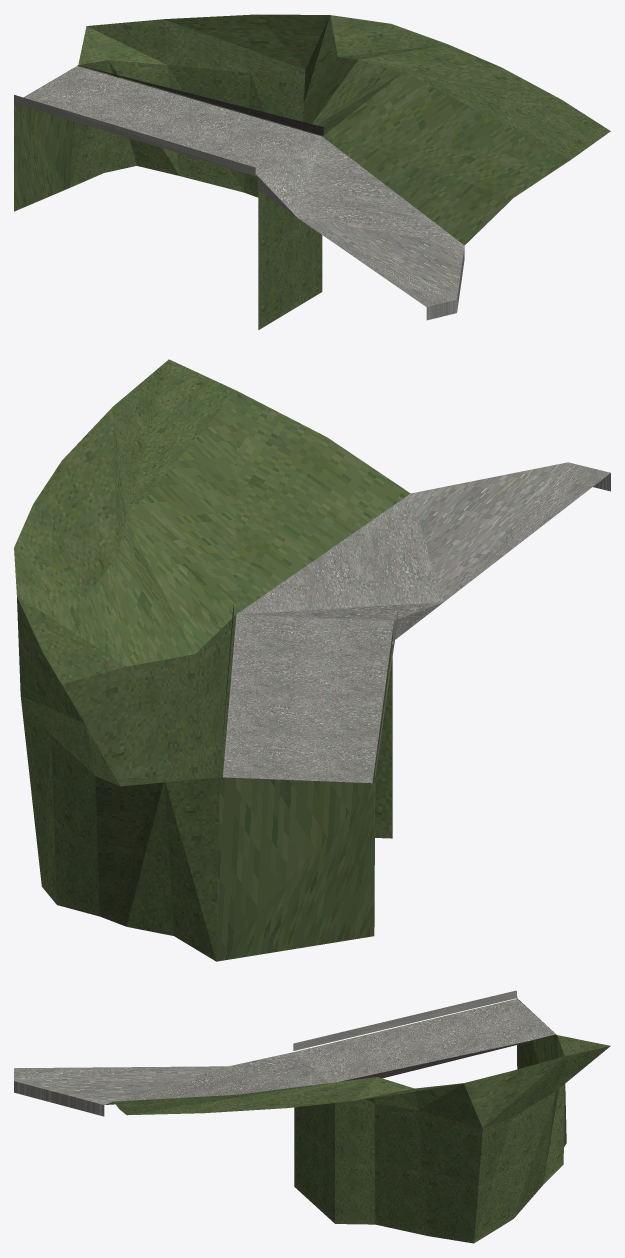
Rendered from lodunction_06_sfse.obj.
The picture shows the model from 3 angles, top to bottom: view 1: azimuth 30°, elevation 25°; view 2: azimuth 150°, elevation 25°; view 3: azimuth 270°, elevation 25°; orthographic projection. The views are drawn at different scales.
Parts seen in each view (by area): view 1: lodunction_06_SFSe; view 2: lodunction_06_SFSe; view 3: lodunction_06_SFSe.
Boxes of the visible parts, x1=… form: lodunction_06_SFSe: x1=14, y1=14, x2=610, y2=329; lodunction_06_SFSe: x1=14, y1=359, x2=610, y2=961; lodunction_06_SFSe: x1=14, y1=990, x2=610, y2=1243.
Size of the model in its own units: 66.7 by 35.59 by 107.
Materials: 3 (3 with a texture image).
